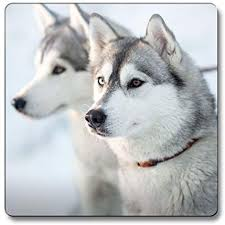Bulldog: (88, 14, 218, 210), (9, 8, 86, 118)
